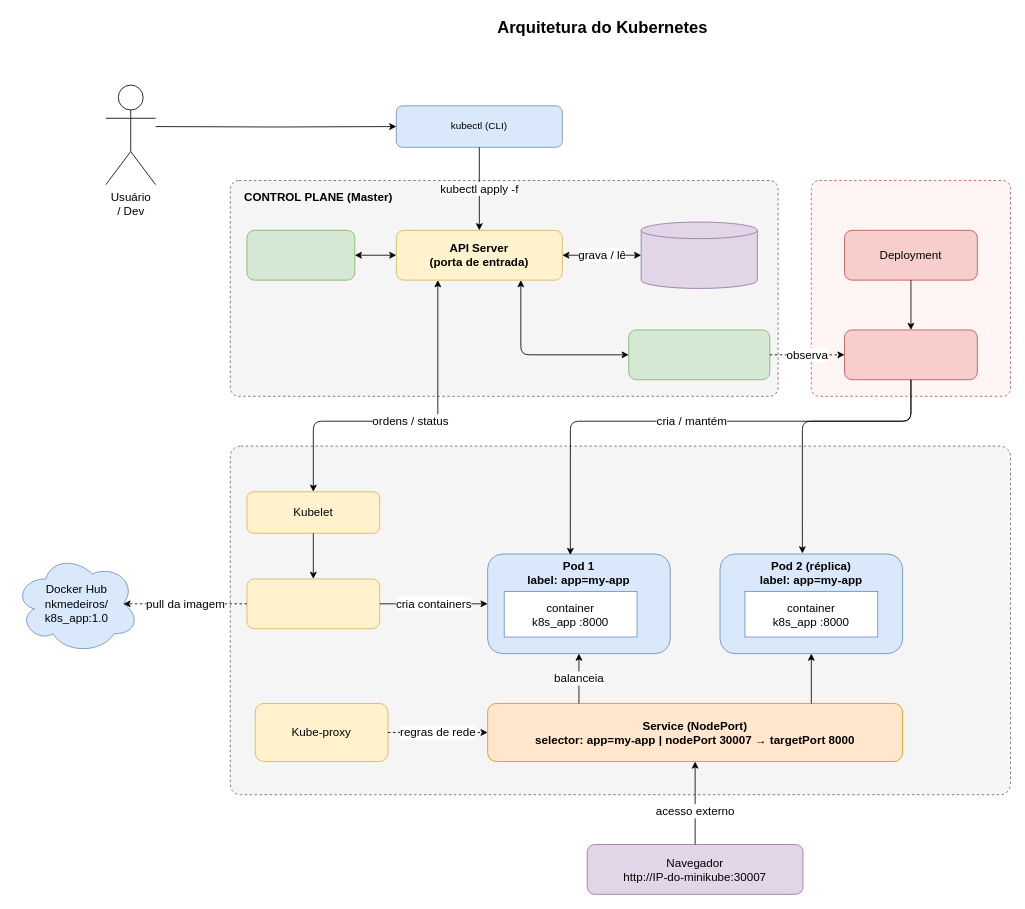
The diagram is 1025 pixels wide and 909 high, and some of its shapes have lost their labels. The shapes that lost their labels are listed below. From the top down, each one's box as (x1, y1, x2, y2) in pixels, then its label:
(246, 229, 355, 280): Scheduler (escolhe o Node)
(640, 221, 757, 288): etcd (estado do cluster)
(810, 180, 1011, 396): Objetos de workload (YAML)
(628, 329, 770, 380): Controller Manager (estado desejado x real)
(844, 329, 977, 380): ReplicaSet (nº de réplicas)
(246, 578, 380, 629): Container Runtime (containerd / Docker)
(229, 445, 1011, 795): WORKER NODE (Minikube)
